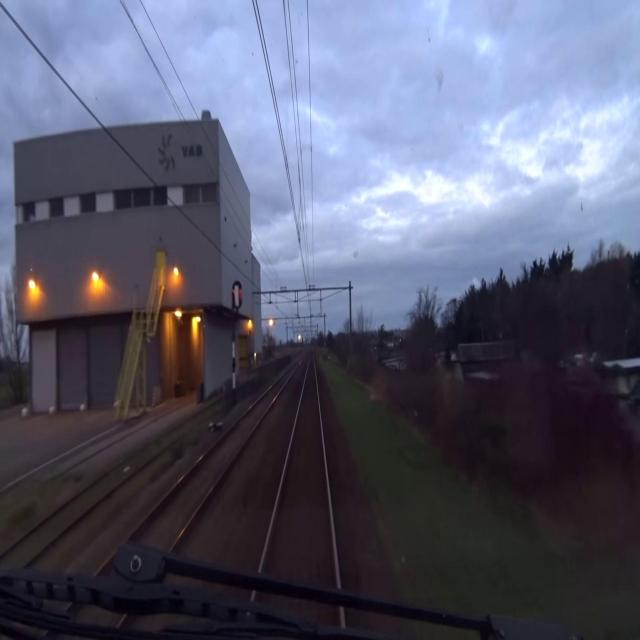rail-track: (1, 393, 233, 561), (137, 364, 296, 544), (263, 357, 335, 580)
